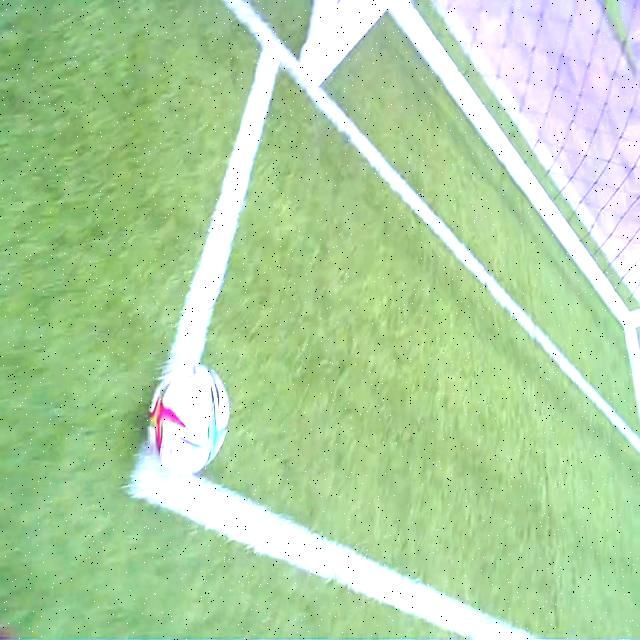ball: (152, 364, 228, 474)
